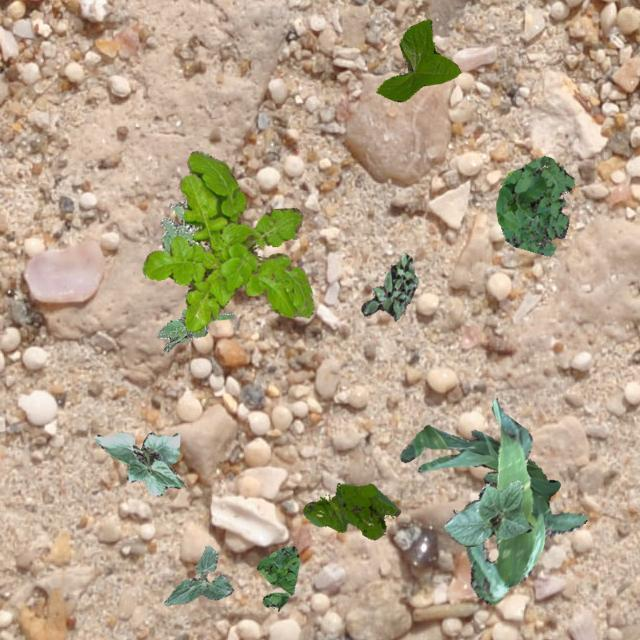crop: (466, 398, 586, 604), (400, 424, 560, 514), (376, 18, 460, 100), (442, 480, 532, 546), (92, 432, 184, 496), (164, 544, 232, 604)
weed: (142, 150, 312, 330), (494, 154, 574, 254), (302, 482, 399, 538), (361, 252, 416, 320), (156, 308, 234, 352), (256, 546, 298, 610), (160, 200, 204, 252), (482, 470, 498, 488)
